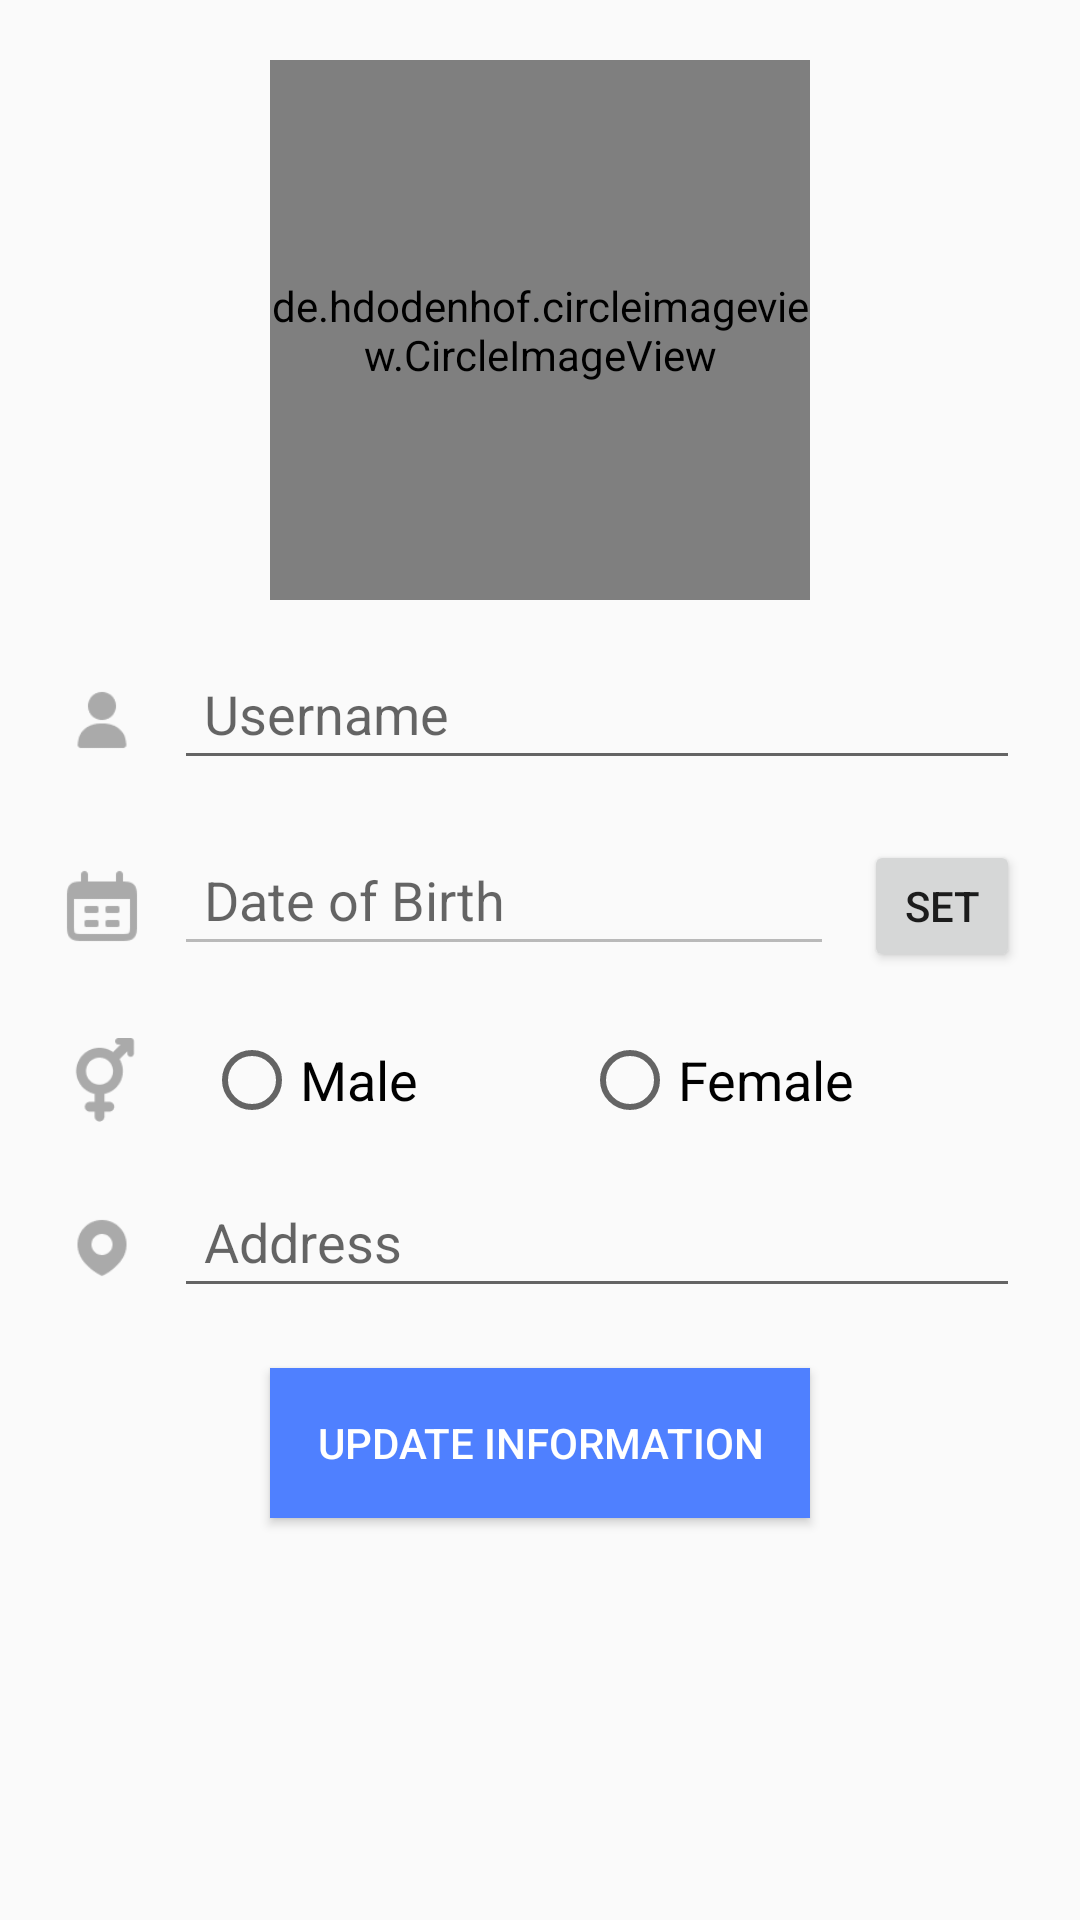

Screen size 1080×1920. Icon name, then its box in pixels as {"left": x1, "top": y1, "right": x2, "bottom": y2}:
datep: {"left": 67, "top": 871, "right": 137, "bottom": 941}
genderp: {"left": 76, "top": 1038, "right": 134, "bottom": 1122}
